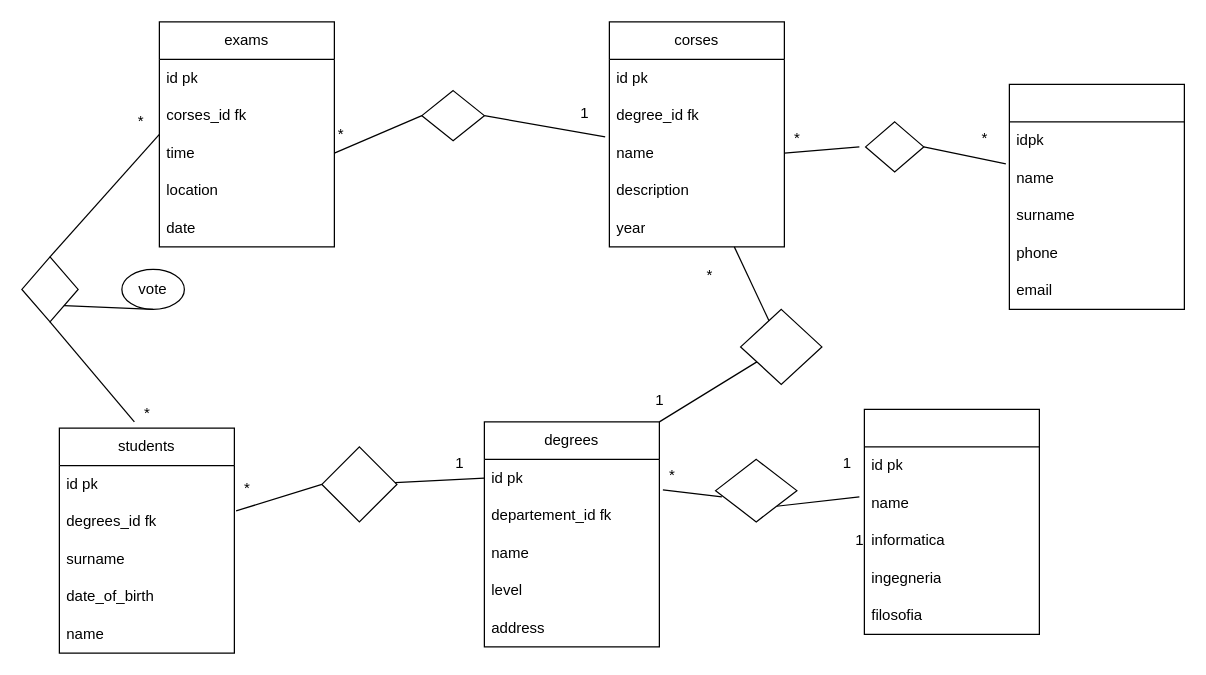
This 1206x675 diagram has some shape labels left out. Here are the shapes that lost their labels. From the top down, the box of each, then its label:
(1008, 83, 1184, 309): teachers
(863, 408, 1039, 634): dipartimenti
